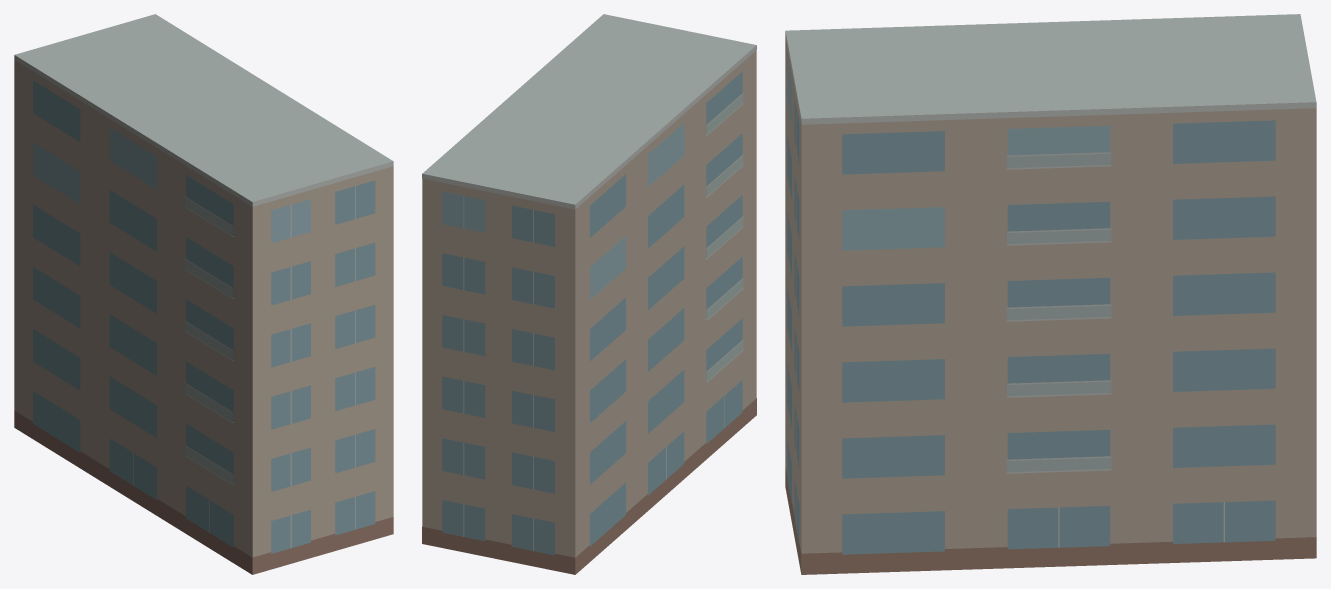
File: survey-upis-32928314.glb
3 renders of one model, left to right at view 1: azimuth 30°, elevation 25°; view 2: azimuth 150°, elevation 25°; view 3: azimuth 270°, elevation 25°, orthographic. The views are drawn at different scales.
Parts seen in each view (by area): view 1: survey-upis-32928314.tmp; view 2: survey-upis-32928314.tmp; view 3: survey-upis-32928314.tmp.
Boxes of the visible parts, x1,y1,x2,y2 form: survey-upis-32928314.tmp: (14, 14, 393, 574); survey-upis-32928314.tmp: (422, 14, 756, 574); survey-upis-32928314.tmp: (785, 14, 1316, 574).
Size of the model in its own units: 9.22 by 18.7 by 19.74.
